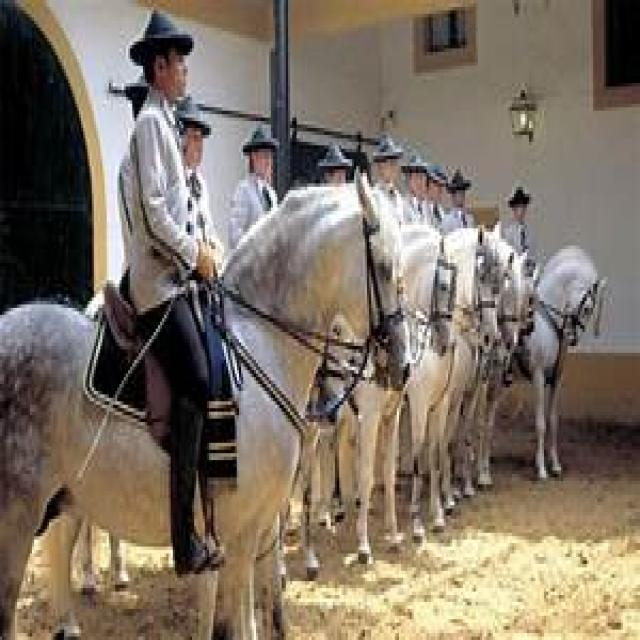animal: (0, 185, 406, 640), (519, 248, 608, 475)
